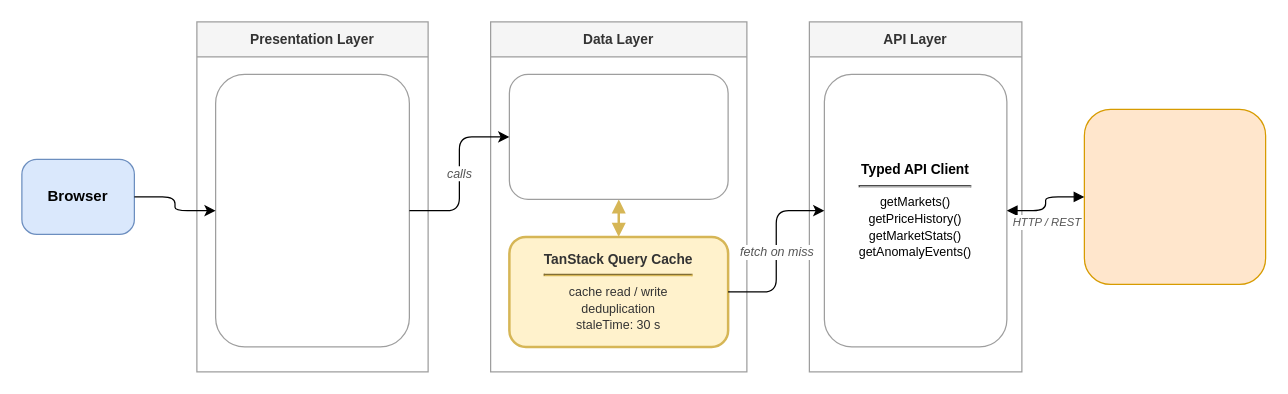
Some shapes in this 1288 by 394 pixel diagram are drawn without their labels. The centre of each missing label's shape, as x and y in pixels:
Flask Backend /api/markets /api/…/prices /api/…/stats /api/anomalies: the point at 1174,196
React Components MarketSidebar StatsBar PriceChart AnomalyFeed: the point at 311,210
React Query Hooks useMarkets usePriceHistory useMarketStats useAnomalyEvents: the point at 618,136
